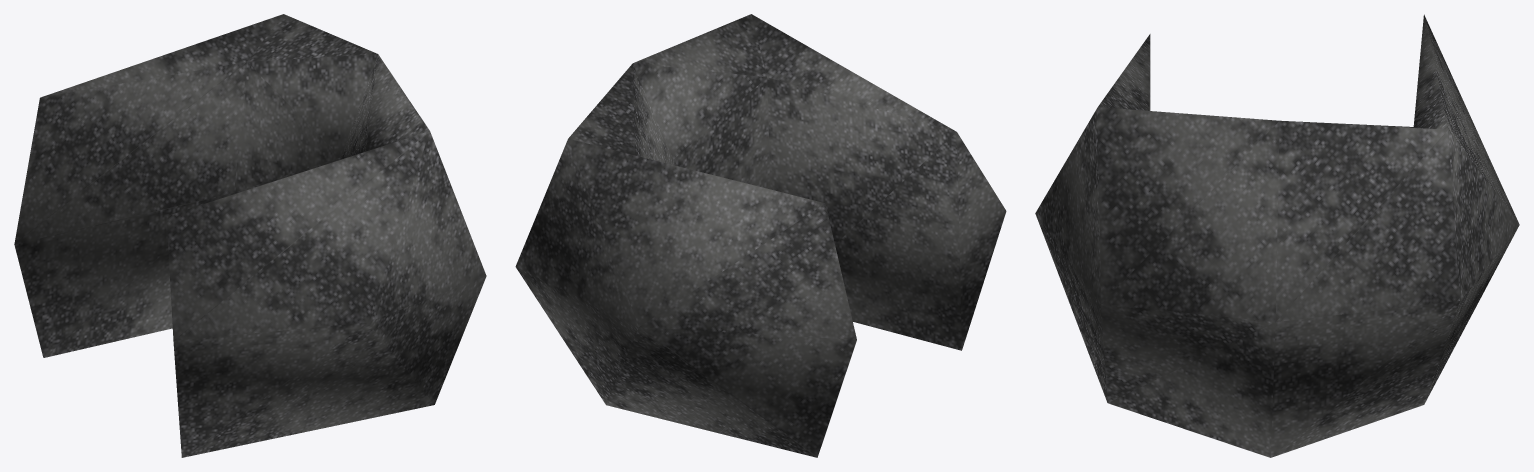
File: sidething.fbx
3 views of the same model, side by side, from view 1: azimuth 30°, elevation 25°; view 2: azimuth 150°, elevation 25°; view 3: azimuth 270°, elevation 25° (orthographic). The views are drawn at different scales.
Parts seen in each view (by area): view 1: Cube; view 2: Cube; view 3: Cube.
Part boxes in pixels (x1,y1,x2,y2): Cube: [14, 14, 486, 457]; Cube: [515, 14, 1006, 457]; Cube: [1035, 14, 1519, 457].
Bounding box in the file's own units: 2.88 × 2.34 × 3.15.
1 material, 1 textured.
